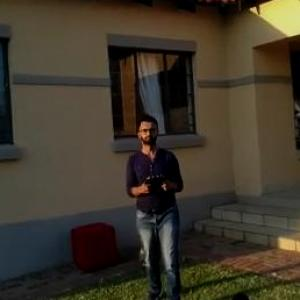follow: (121, 108, 191, 299)
